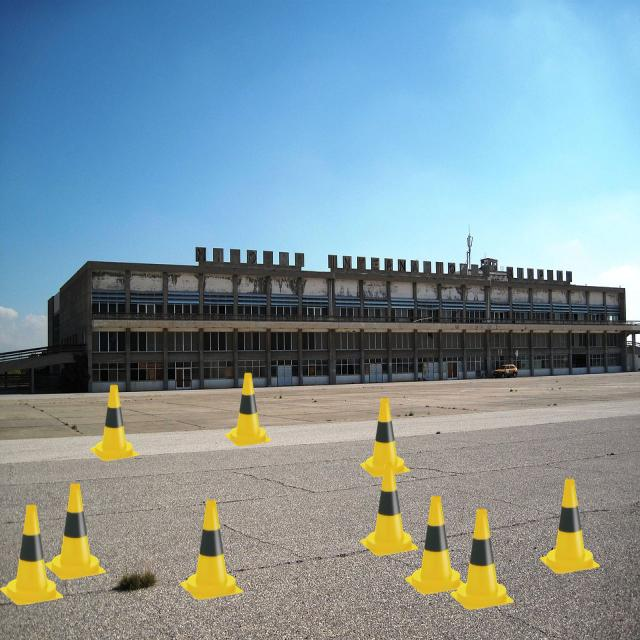yellow_cone: (450, 509, 514, 610), (0, 505, 64, 605), (180, 500, 243, 600), (405, 496, 467, 595), (45, 483, 106, 580), (540, 479, 600, 574), (360, 463, 418, 556), (360, 398, 410, 477), (90, 385, 138, 461), (225, 372, 271, 447)
